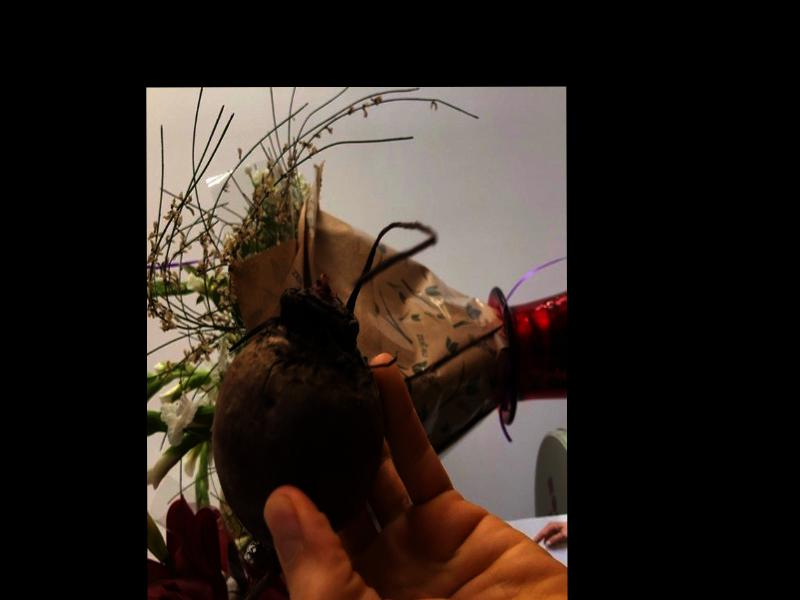Beet: (185, 221, 436, 600)
